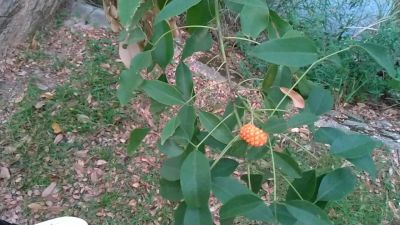eggs: (236, 120, 269, 146)
